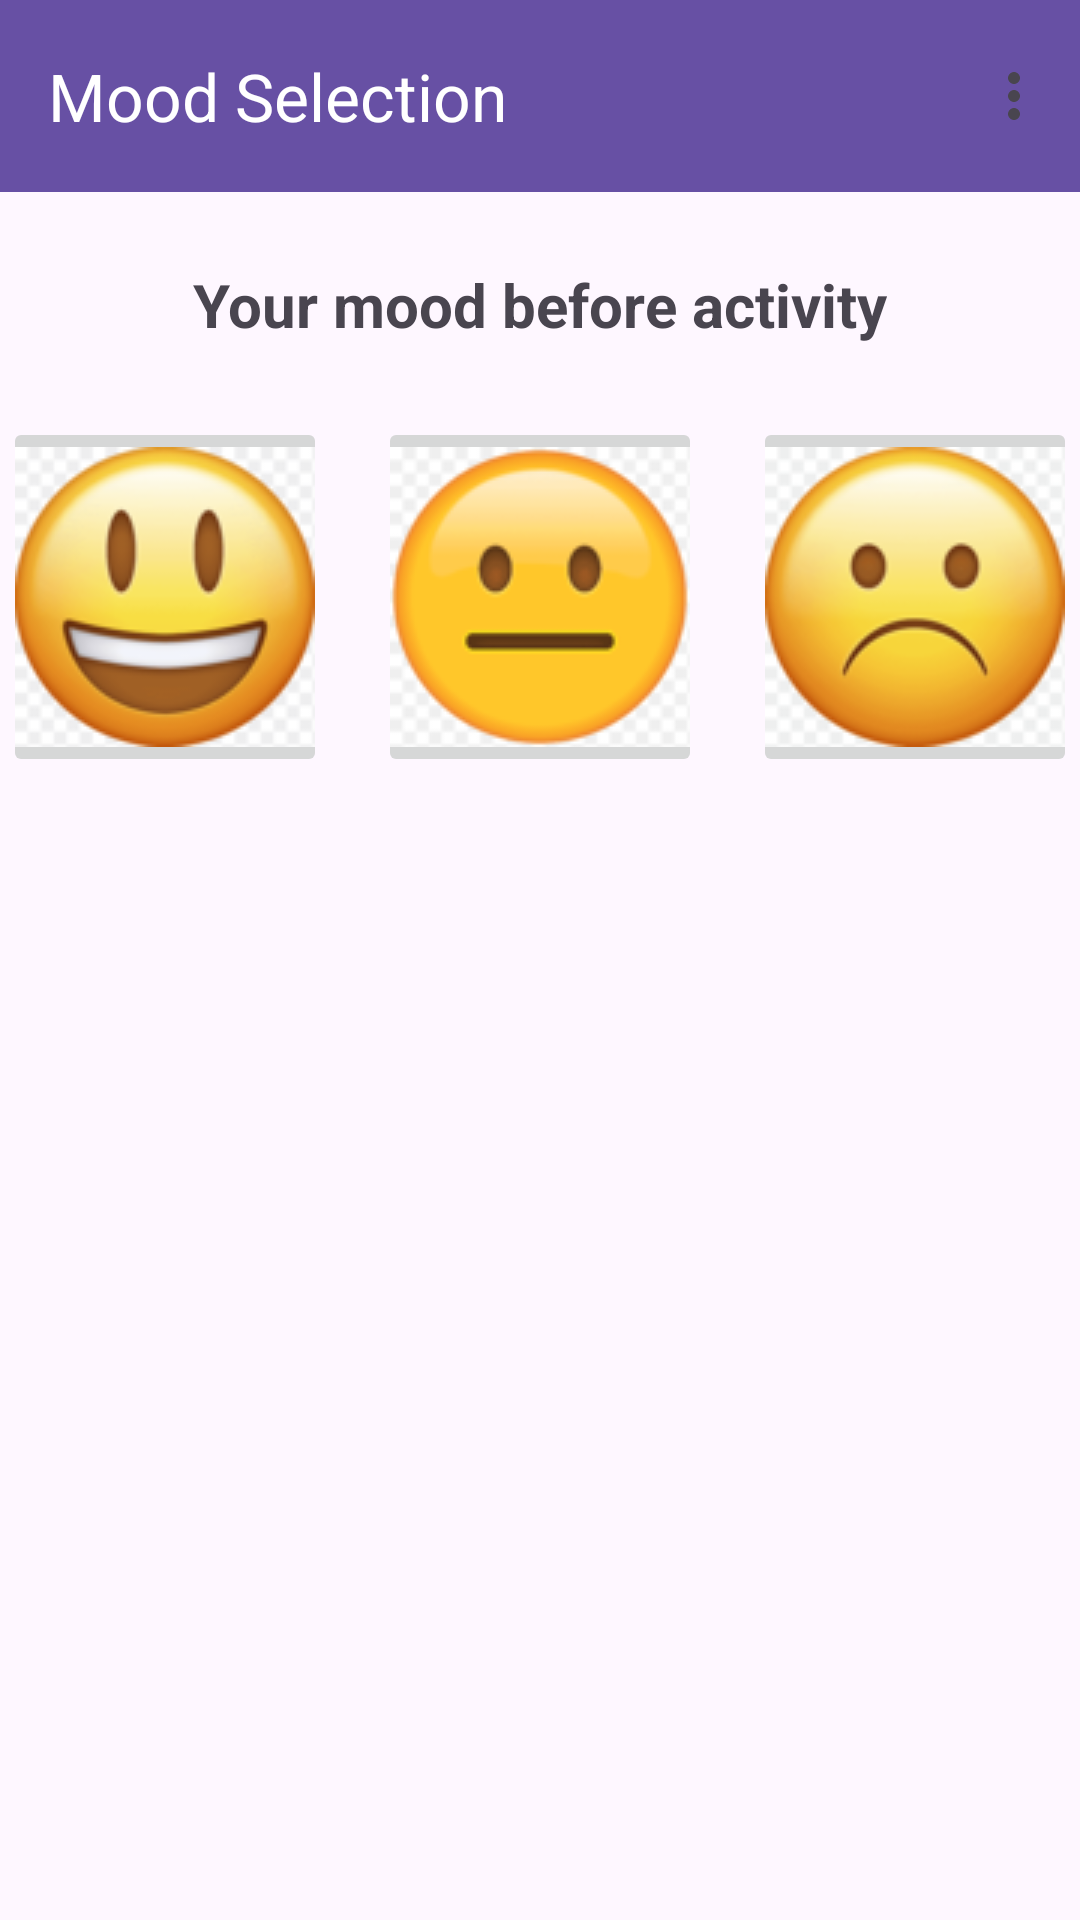

Point at icon controls on the screen. Image size 1080*1920, points as (x=x, y=y).
bad: (x=915, y=597)
happy: (x=165, y=597)
neutral: (x=540, y=597)
